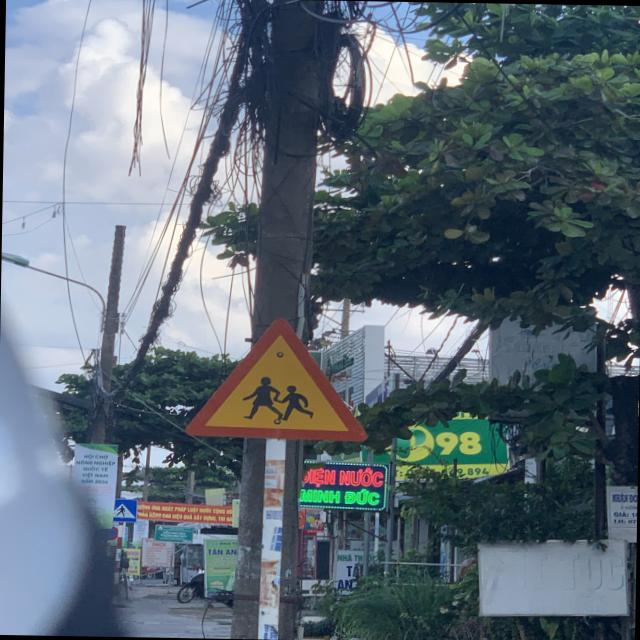Vong_Xuyen: (185, 313, 366, 441)
